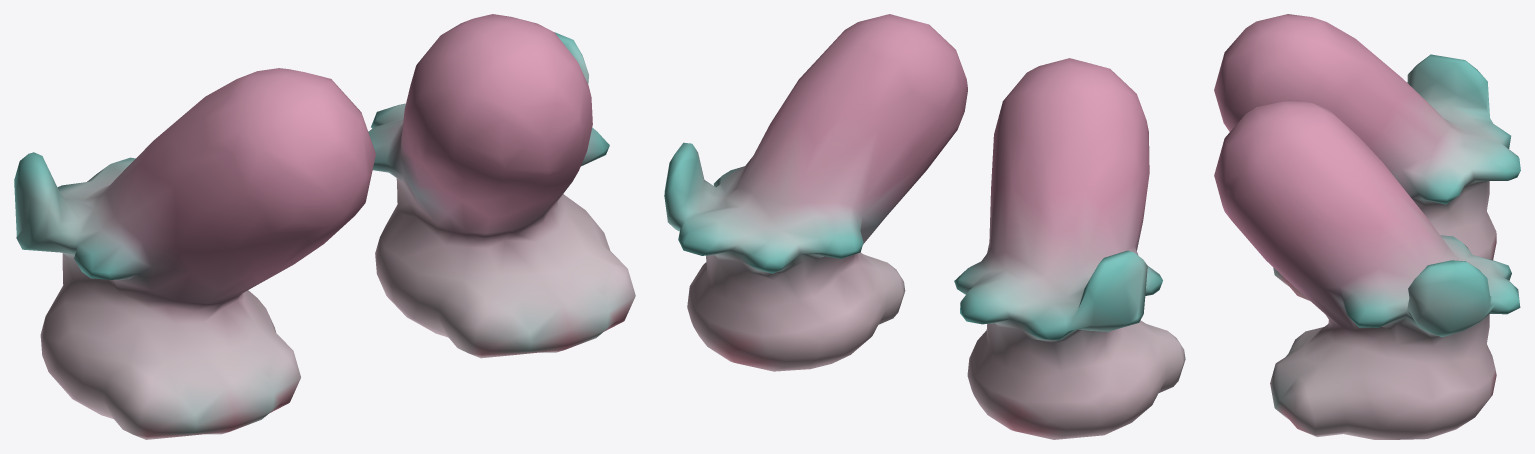
The model's file is water-hind-paws.glb.
3 renders of one model, left to right at view 1: azimuth 30°, elevation 25°; view 2: azimuth 150°, elevation 25°; view 3: azimuth 270°, elevation 25°, orthographic. The views are drawn at different scales.
Visible parts, largest first — view 1: water-hind-paws; view 2: water-hind-paws; view 3: water-hind-paws.
Part boxes in pixels (bbox=[...]): water-hind-paws: bbox=[14, 14, 635, 439]; water-hind-paws: bbox=[664, 14, 1185, 439]; water-hind-paws: bbox=[1214, 14, 1520, 439].
Bounding box in the file's own units: 0.3582 × 0.2121 × 0.2088.
